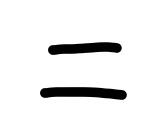eqv: (37, 37, 129, 103)
